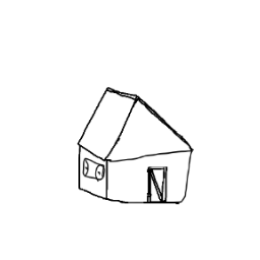door: (141, 163, 172, 207)
open_window: (81, 156, 107, 184)
roof: (76, 84, 195, 163)
small_house: (3, 3, 260, 260)
wall: (103, 147, 195, 208)
